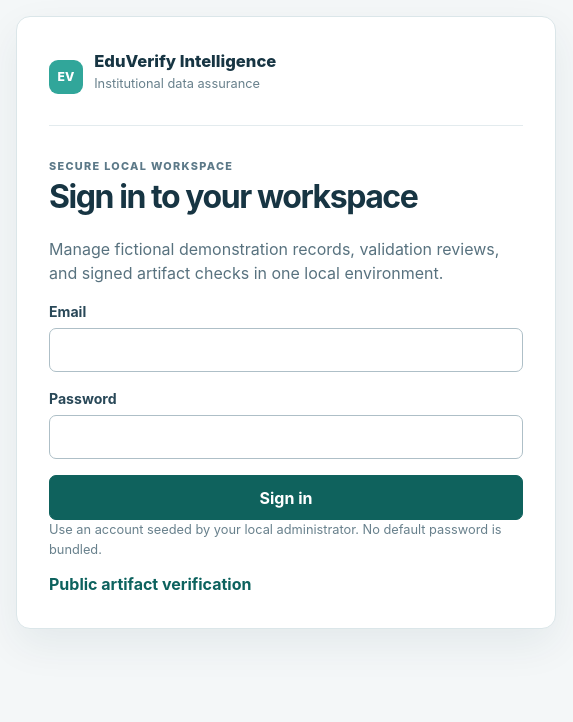
session and role workflows › shows safe login failure and clears password
Step 1. Type "x@demo.example" into the field labelled "Email" → point(286, 350), box [49,328,523,372]
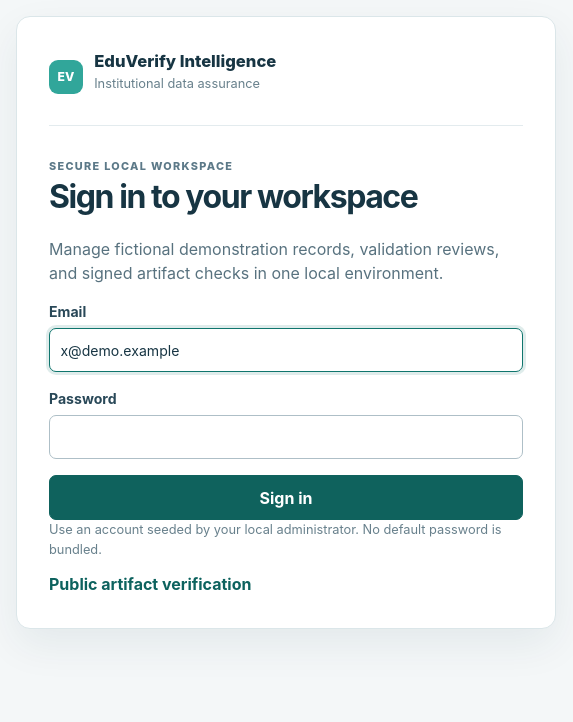
Step 2. Type "bad" into the password field labelled "Password" → point(286, 437), box [49,415,523,459]
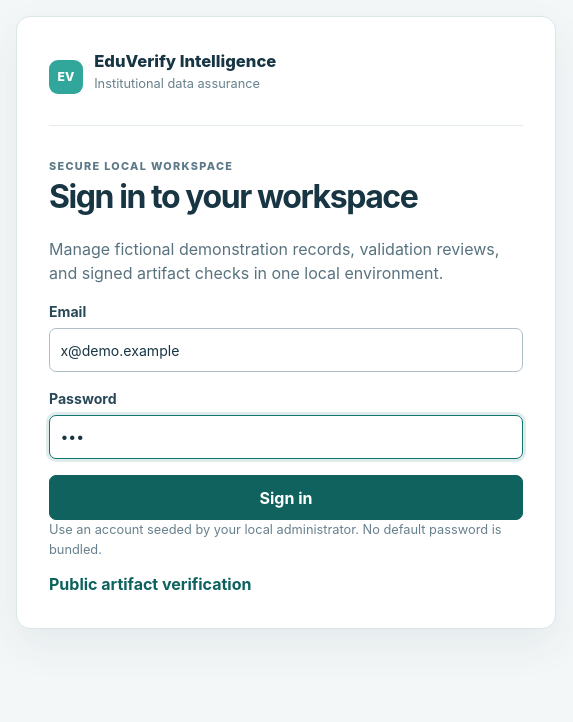
Step 3. Click the button "Sign in" → point(286, 498), box [49,475,523,520]
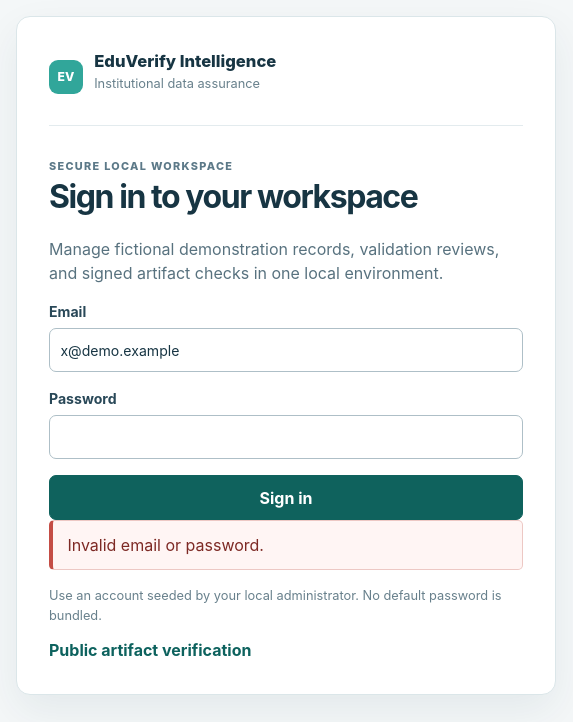
Result: the message shows "Invalid email or password" at [67,536,264,556]
Result: the password field labelled "Password" is empty at [49,415,523,459]
